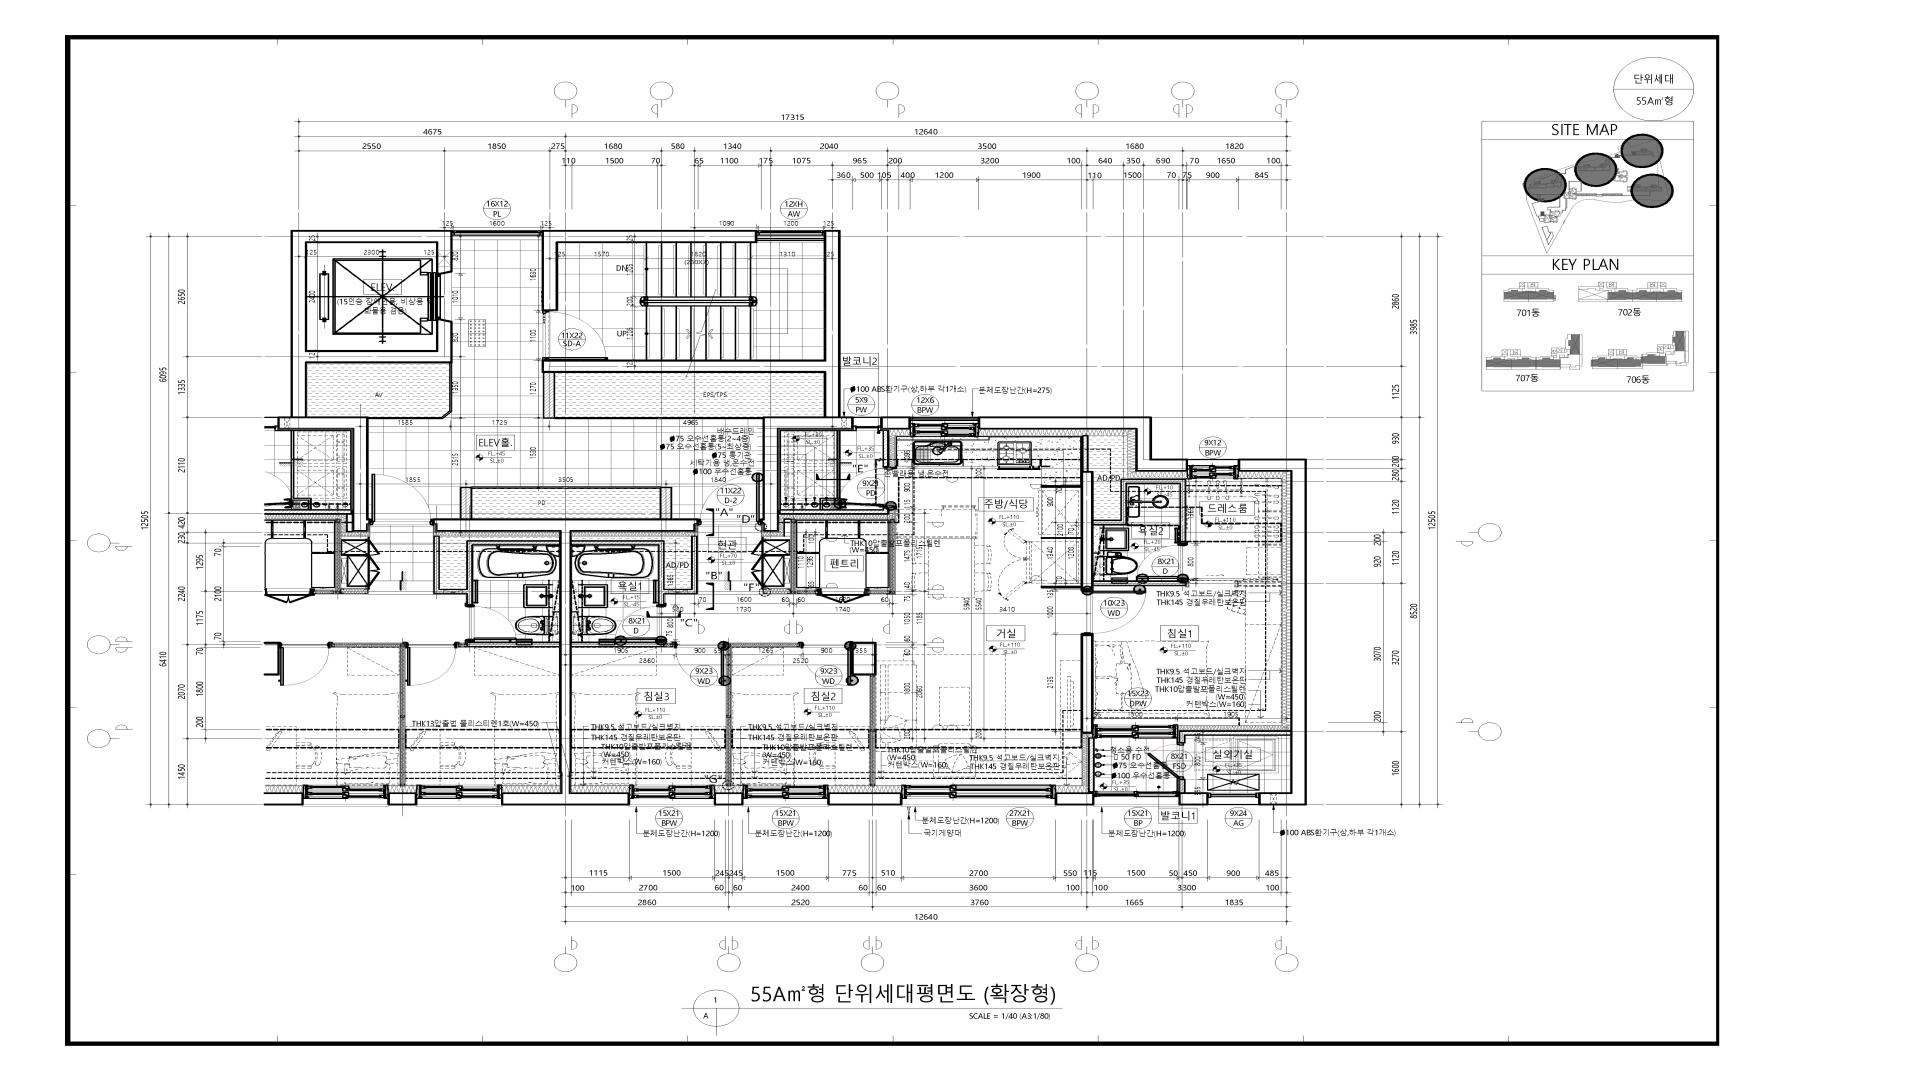door: (542, 310, 608, 361), (699, 473, 761, 525), (1081, 591, 1146, 632), (802, 645, 852, 686), (674, 645, 724, 686), (615, 604, 666, 642), (1135, 542, 1187, 579), (1147, 744, 1184, 779), (818, 589, 864, 604)
wall: (542, 229, 853, 531), (433, 518, 699, 806), (277, 229, 452, 531), (1237, 459, 1307, 806), (542, 229, 756, 310), (977, 417, 1188, 472), (725, 642, 800, 786), (572, 535, 698, 605), (1093, 479, 1185, 542), (764, 518, 818, 595), (864, 520, 895, 595), (1080, 471, 1093, 587), (1178, 731, 1290, 744), (1080, 633, 1093, 732), (827, 793, 902, 806), (779, 508, 889, 514), (572, 641, 665, 647), (1093, 580, 1185, 587), (870, 675, 876, 786), (764, 518, 790, 539), (543, 373, 555, 419), (1055, 793, 1095, 806), (659, 487, 673, 518), (713, 793, 744, 806), (1179, 793, 1208, 806), (881, 417, 910, 430), (460, 487, 472, 518), (1088, 737, 1095, 793), (1081, 435, 1089, 471), (882, 430, 889, 468), (1179, 778, 1187, 793)
window: (902, 785, 1055, 806), (744, 785, 827, 806), (630, 785, 713, 806), (910, 417, 977, 436), (1093, 724, 1178, 738), (1095, 791, 1179, 806), (1188, 459, 1237, 480), (756, 229, 824, 243), (1208, 793, 1258, 806), (452, 231, 542, 236), (853, 417, 881, 430)
